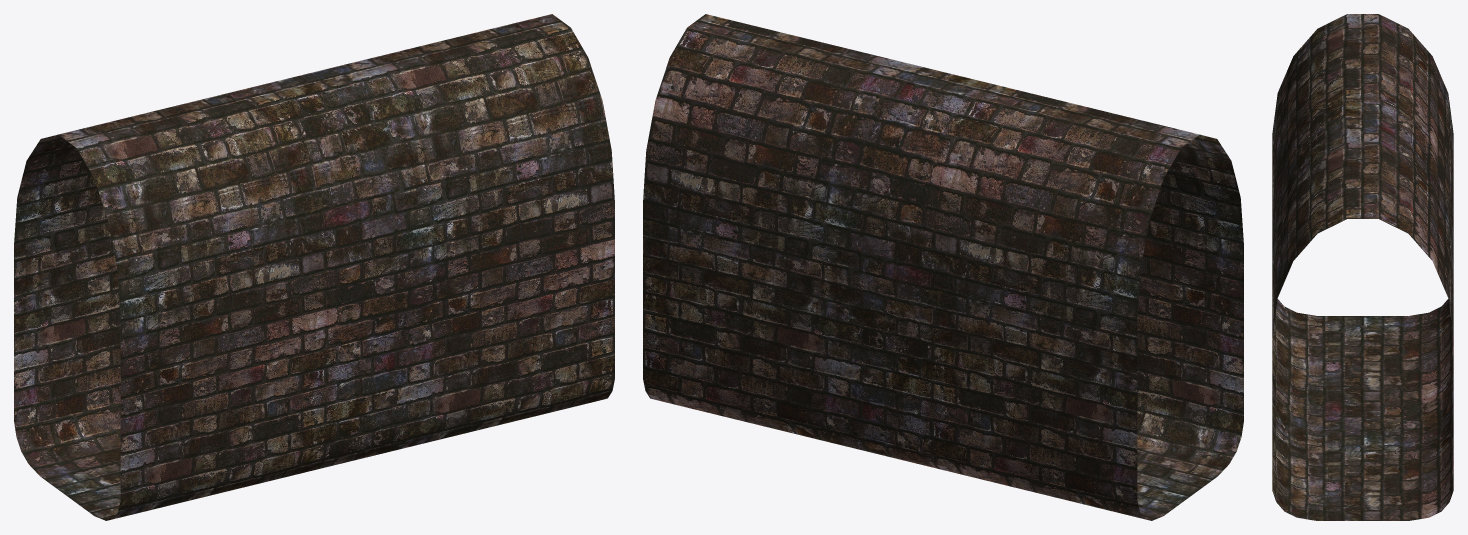
File: wall_tunnel.DAE
The picture shows the model from 3 angles, left to right: view 1: azimuth 30°, elevation 25°; view 2: azimuth 150°, elevation 25°; view 3: azimuth 270°, elevation 25°; orthographic projection. The views are drawn at different scales.
Parts seen in each view (by area): view 1: stone_arch004; view 2: stone_arch004; view 3: stone_arch004.
Boxes of the visible parts, <box> form: stone_arch004: <box>14,14,614,520</box>; stone_arch004: <box>643,14,1243,520</box>; stone_arch004: <box>1272,14,1453,520</box>.
Bounding box in the file's own units: 4 × 2.75 × 1.5.
